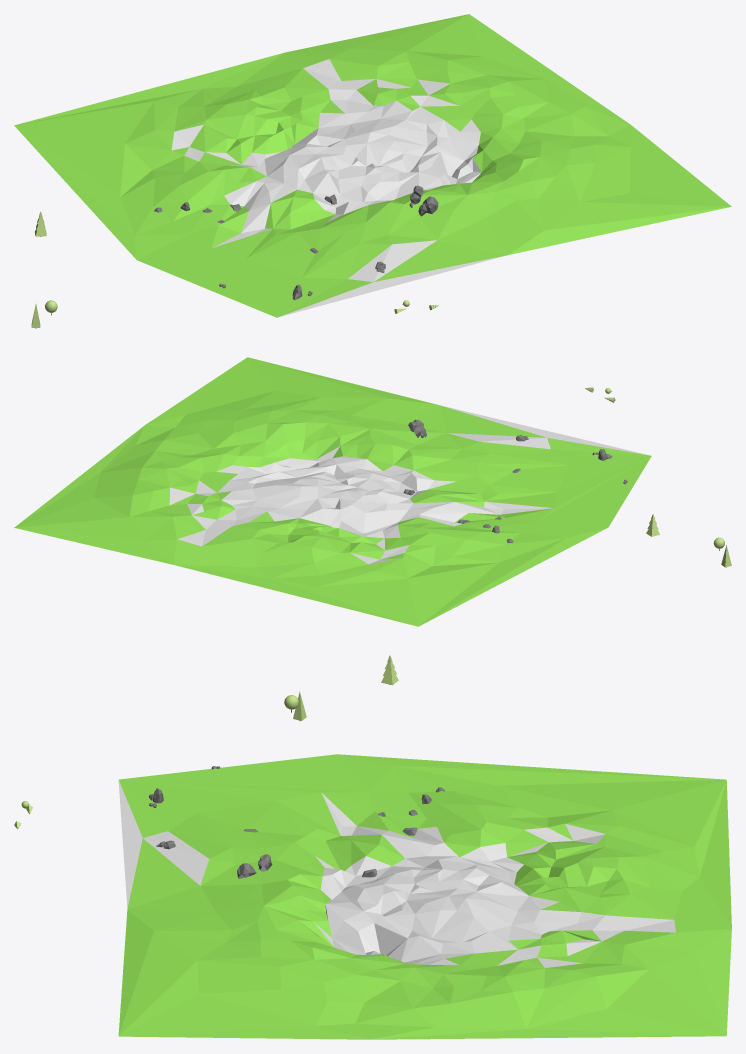
File: FeelBarbarianBackgroundTopDown.fbx
3 renders of one model, top to bottom at view 1: azimuth 30°, elevation 25°; view 2: azimuth 150°, elevation 25°; view 3: azimuth 270°, elevation 25°, orthographic. The views are drawn at different scales.
Parts seen in each view (by area): view 1: Ground; view 2: Ground; view 3: Ground.
Boxes of the visible parts, <box> form: Ground: <box>14,14,731,317</box>; Ground: <box>14,357,651,626</box>; Ground: <box>118,754,731,1039</box>.
Bounding box in the file's own units: 346 × 40.98 × 295.
